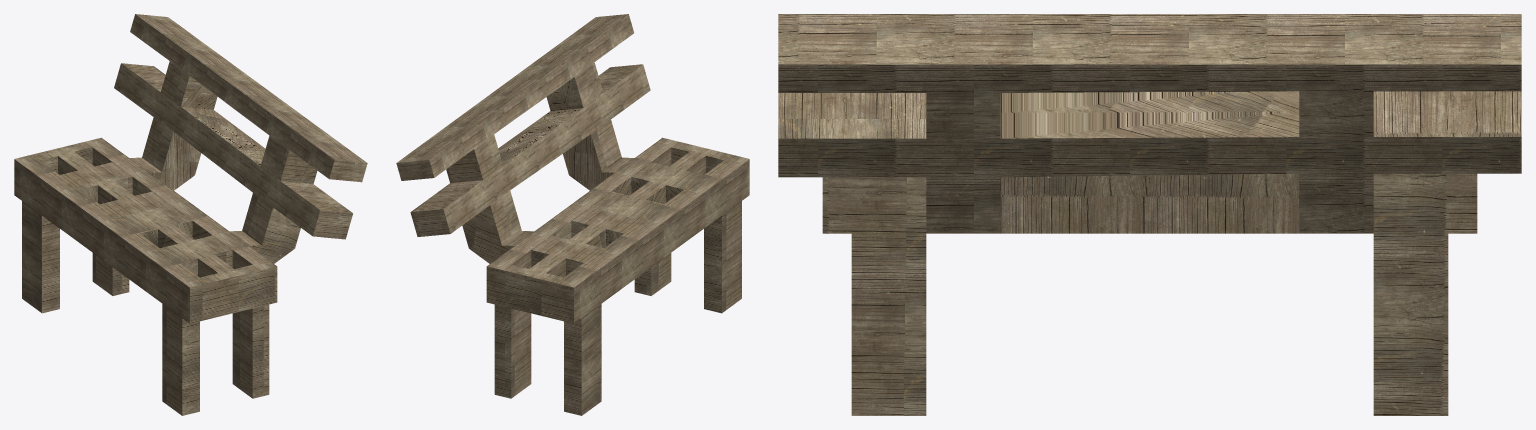
The model's file is Bench Untextured.FBX.
3 views of the same model, side by side, from view 1: azimuth 30°, elevation 25°; view 2: azimuth 150°, elevation 25°; view 3: azimuth 270°, elevation 25° (orthographic). The views are drawn at different scales.
Visible parts, largest first — view 1: Bench; view 2: Bench; view 3: Bench.
Part boxes in pixels (x1,y1,x2,y2): Bench: (14, 14, 367, 415); Bench: (396, 14, 749, 415); Bench: (778, 14, 1521, 415).
Bounding box in the file's own units: 5.19 × 7.12 × 10.82.
